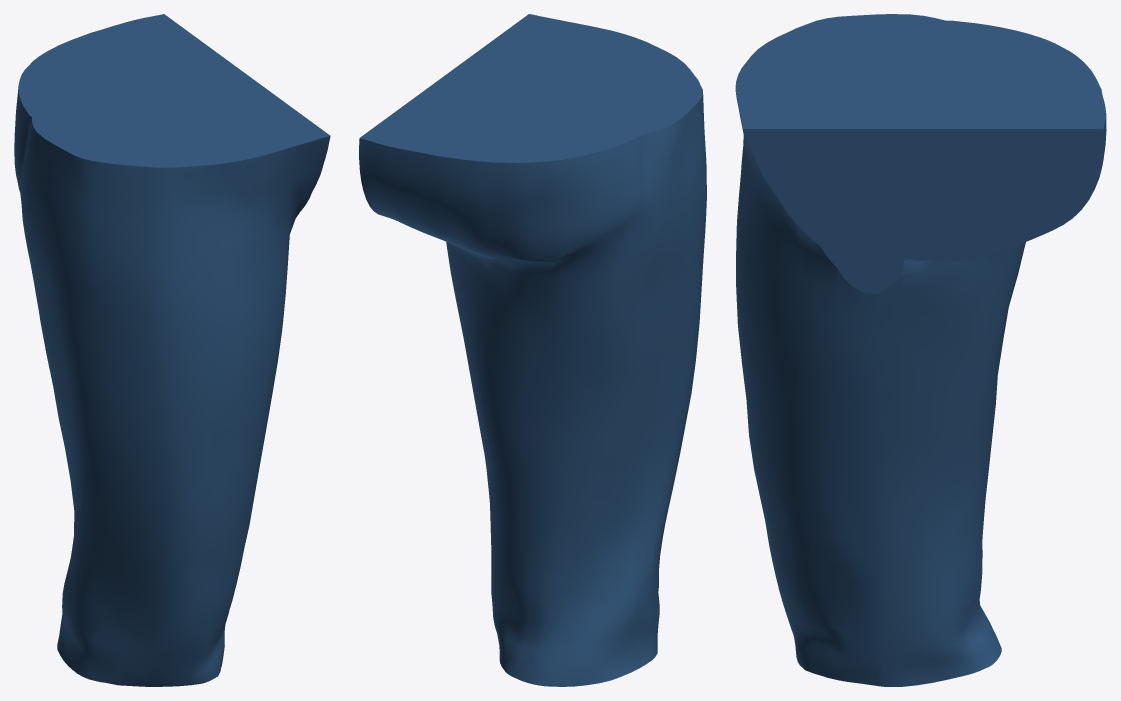
File: thigh_r.fbx
3 renders of one model, left to right at view 1: azimuth 30°, elevation 25°; view 2: azimuth 150°, elevation 25°; view 3: azimuth 270°, elevation 25°, orthographic. The views are drawn at different scales.
Visible parts, largest first — view 1: thigh_r-1; view 2: thigh_r-1; view 3: thigh_r-1.
Boxes of the visible parts, x1,y1,x2,y2 form: thigh_r-1: [14, 14, 330, 686]; thigh_r-1: [359, 14, 706, 686]; thigh_r-1: [735, 14, 1106, 686].
Size of the model in its own units: 0.4 by 0.2297 by 0.1711.
